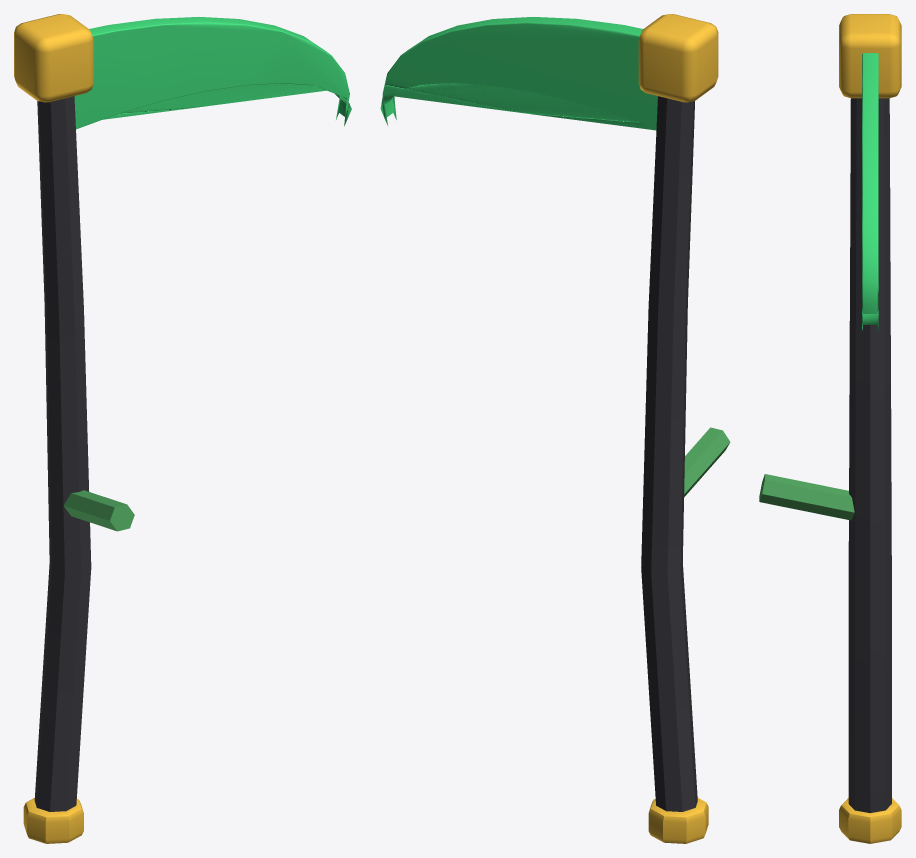
The model's file is EmeraldScythe.fbx.
The picture shows the model from 3 angles, left to right: view 1: azimuth 30°, elevation 25°; view 2: azimuth 150°, elevation 25°; view 3: azimuth 270°, elevation 25°; orthographic projection.
Visible parts, largest first — view 1: EmeraldScythe; view 2: EmeraldScythe; view 3: EmeraldScythe.
Boxes of the visible parts, bbox=[...] form: EmeraldScythe: bbox=[14, 14, 351, 843]; EmeraldScythe: bbox=[380, 14, 730, 843]; EmeraldScythe: bbox=[759, 14, 901, 843].
Bounding box in the file's own units: 1.56 × 3.72 × 0.5913.
1 material, 1 textured.
